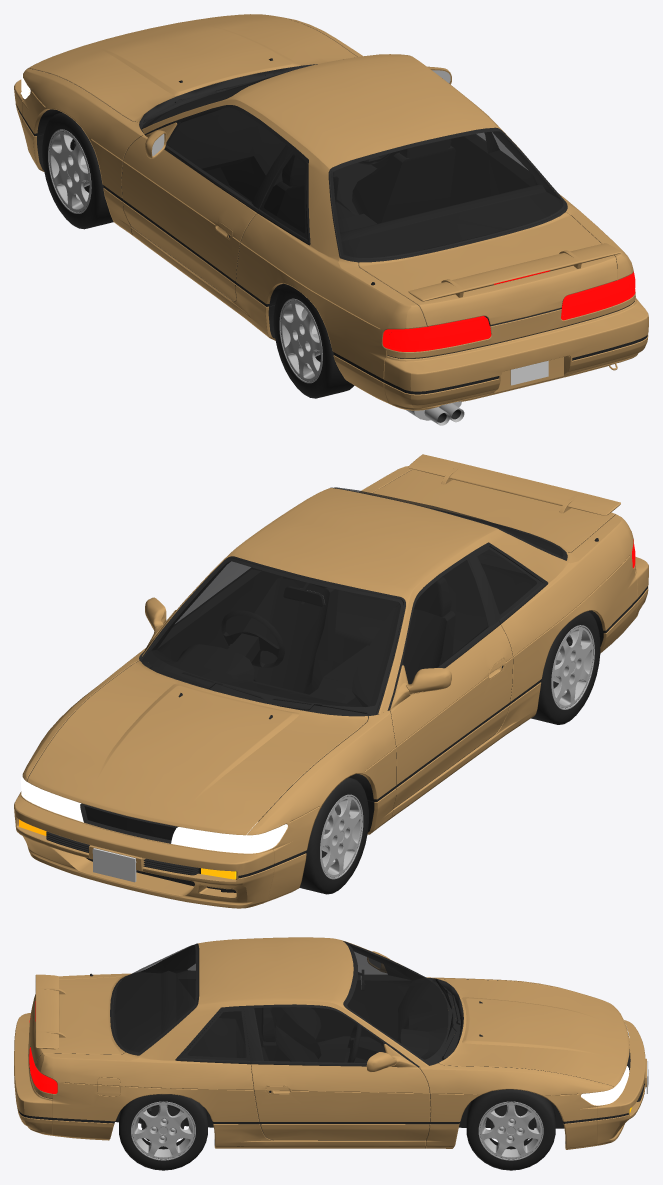
File: toon_japan__nissan_silvia_s13.glb
3 views of the same model, one above another, from view 1: azimuth 30°, elevation 25°; view 2: azimuth 150°, elevation 25°; view 3: azimuth 270°, elevation 25° (orthographic). The views are drawn at different scales.
Parts seen in each view (by area): view 1: Nissan Silvia S13_3, Front Left Wheel_0, Rear Wheels_2; view 2: Nissan Silvia S13_3, Front Left Wheel_0, Rear Wheels_2; view 3: Nissan Silvia S13_3, Front Right Wheel_1, Rear Wheels_2.
Part boxes in pixels (<box>): Nissan Silvia S13_3: <box>14,14,648,425</box>; Front Left Wheel_0: <box>42,112,113,229</box>; Rear Wheels_2: <box>273,284,354,398</box>; Nissan Silvia S13_3: <box>14,454,648,908</box>; Front Left Wheel_0: <box>299,777,368,894</box>; Rear Wheels_2: <box>531,611,600,724</box>; Nissan Silvia S13_3: <box>14,937,648,1149</box>; Front Right Wheel_1: <box>466,1089,555,1170</box>; Rear Wheels_2: <box>119,1094,207,1170</box>.
Size of the model in its own units: 0.8345 by 0.5509 by 2.01.
